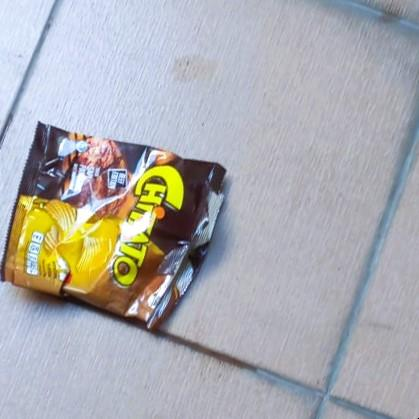Plastik: (0, 121, 229, 332)
